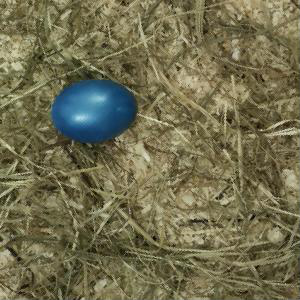egg: (51, 80, 137, 143)
